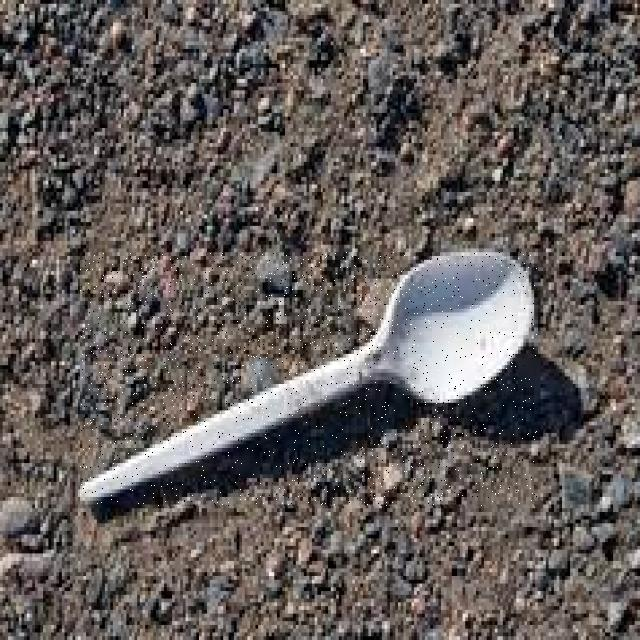plastic: (80, 253, 537, 506)
